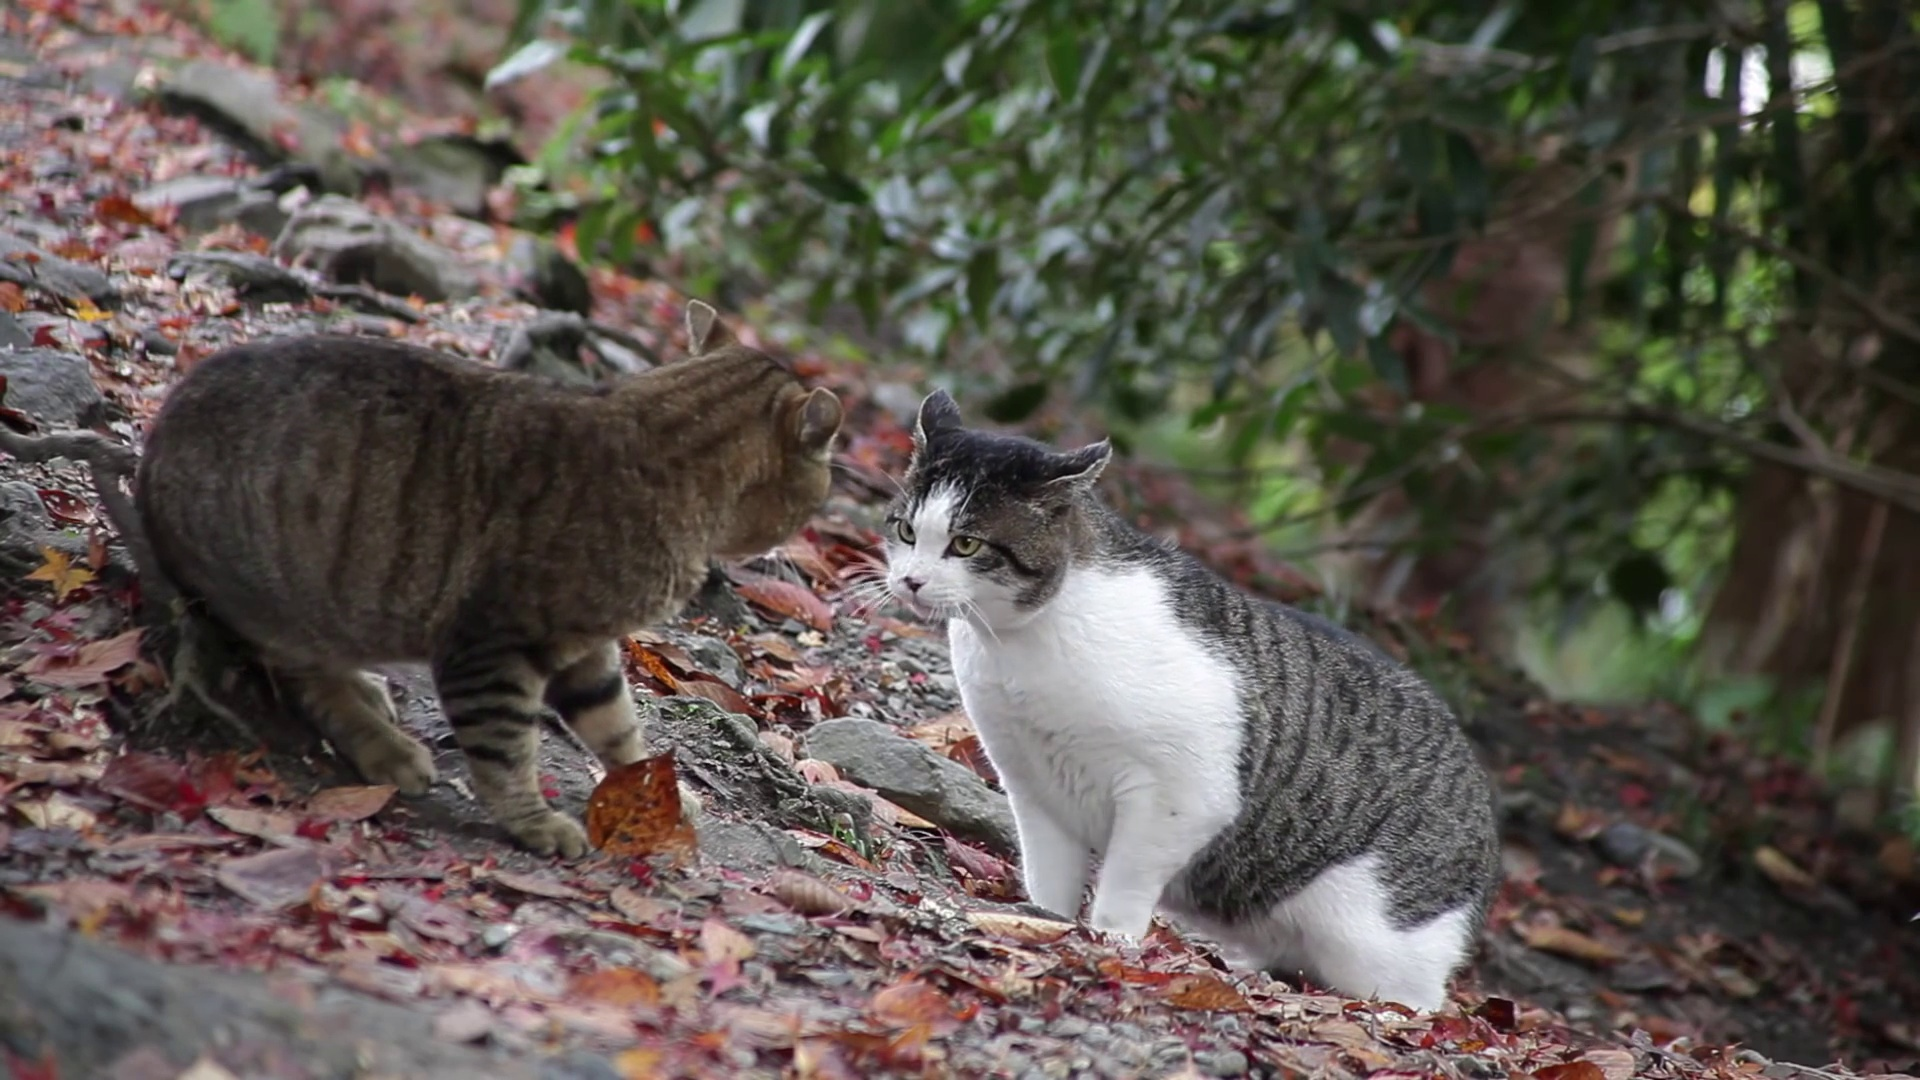black-white: (886, 388, 1498, 1011)
pure black: (138, 299, 841, 860)
